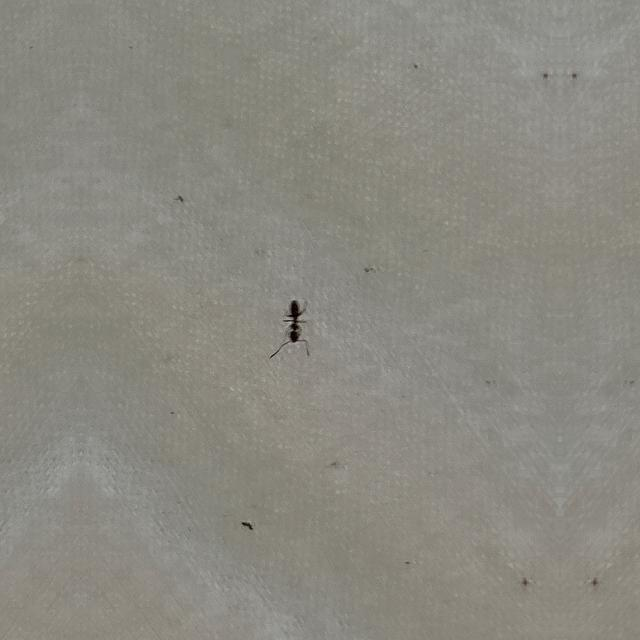Tapinoma: (280, 292, 306, 351)
